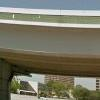Bridge: (4, 4, 99, 78)
